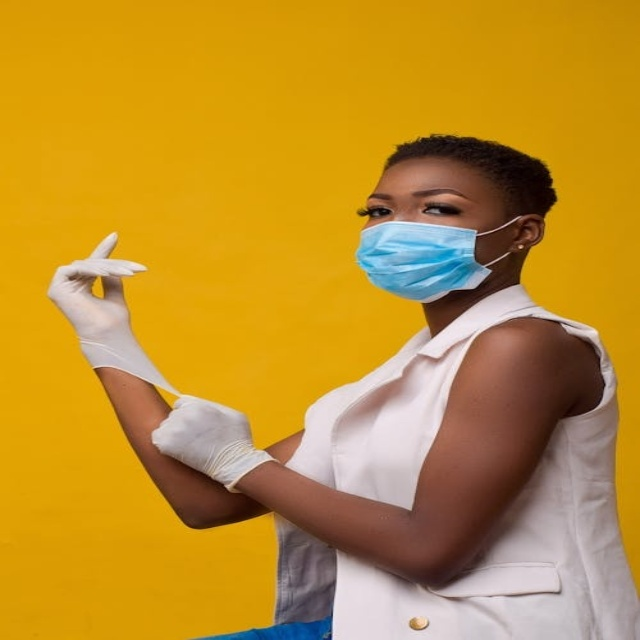Guantes: (47, 229, 175, 394), (149, 392, 277, 491)
Mascara: (357, 215, 509, 301)
Sin_gafas: (347, 188, 474, 222)
